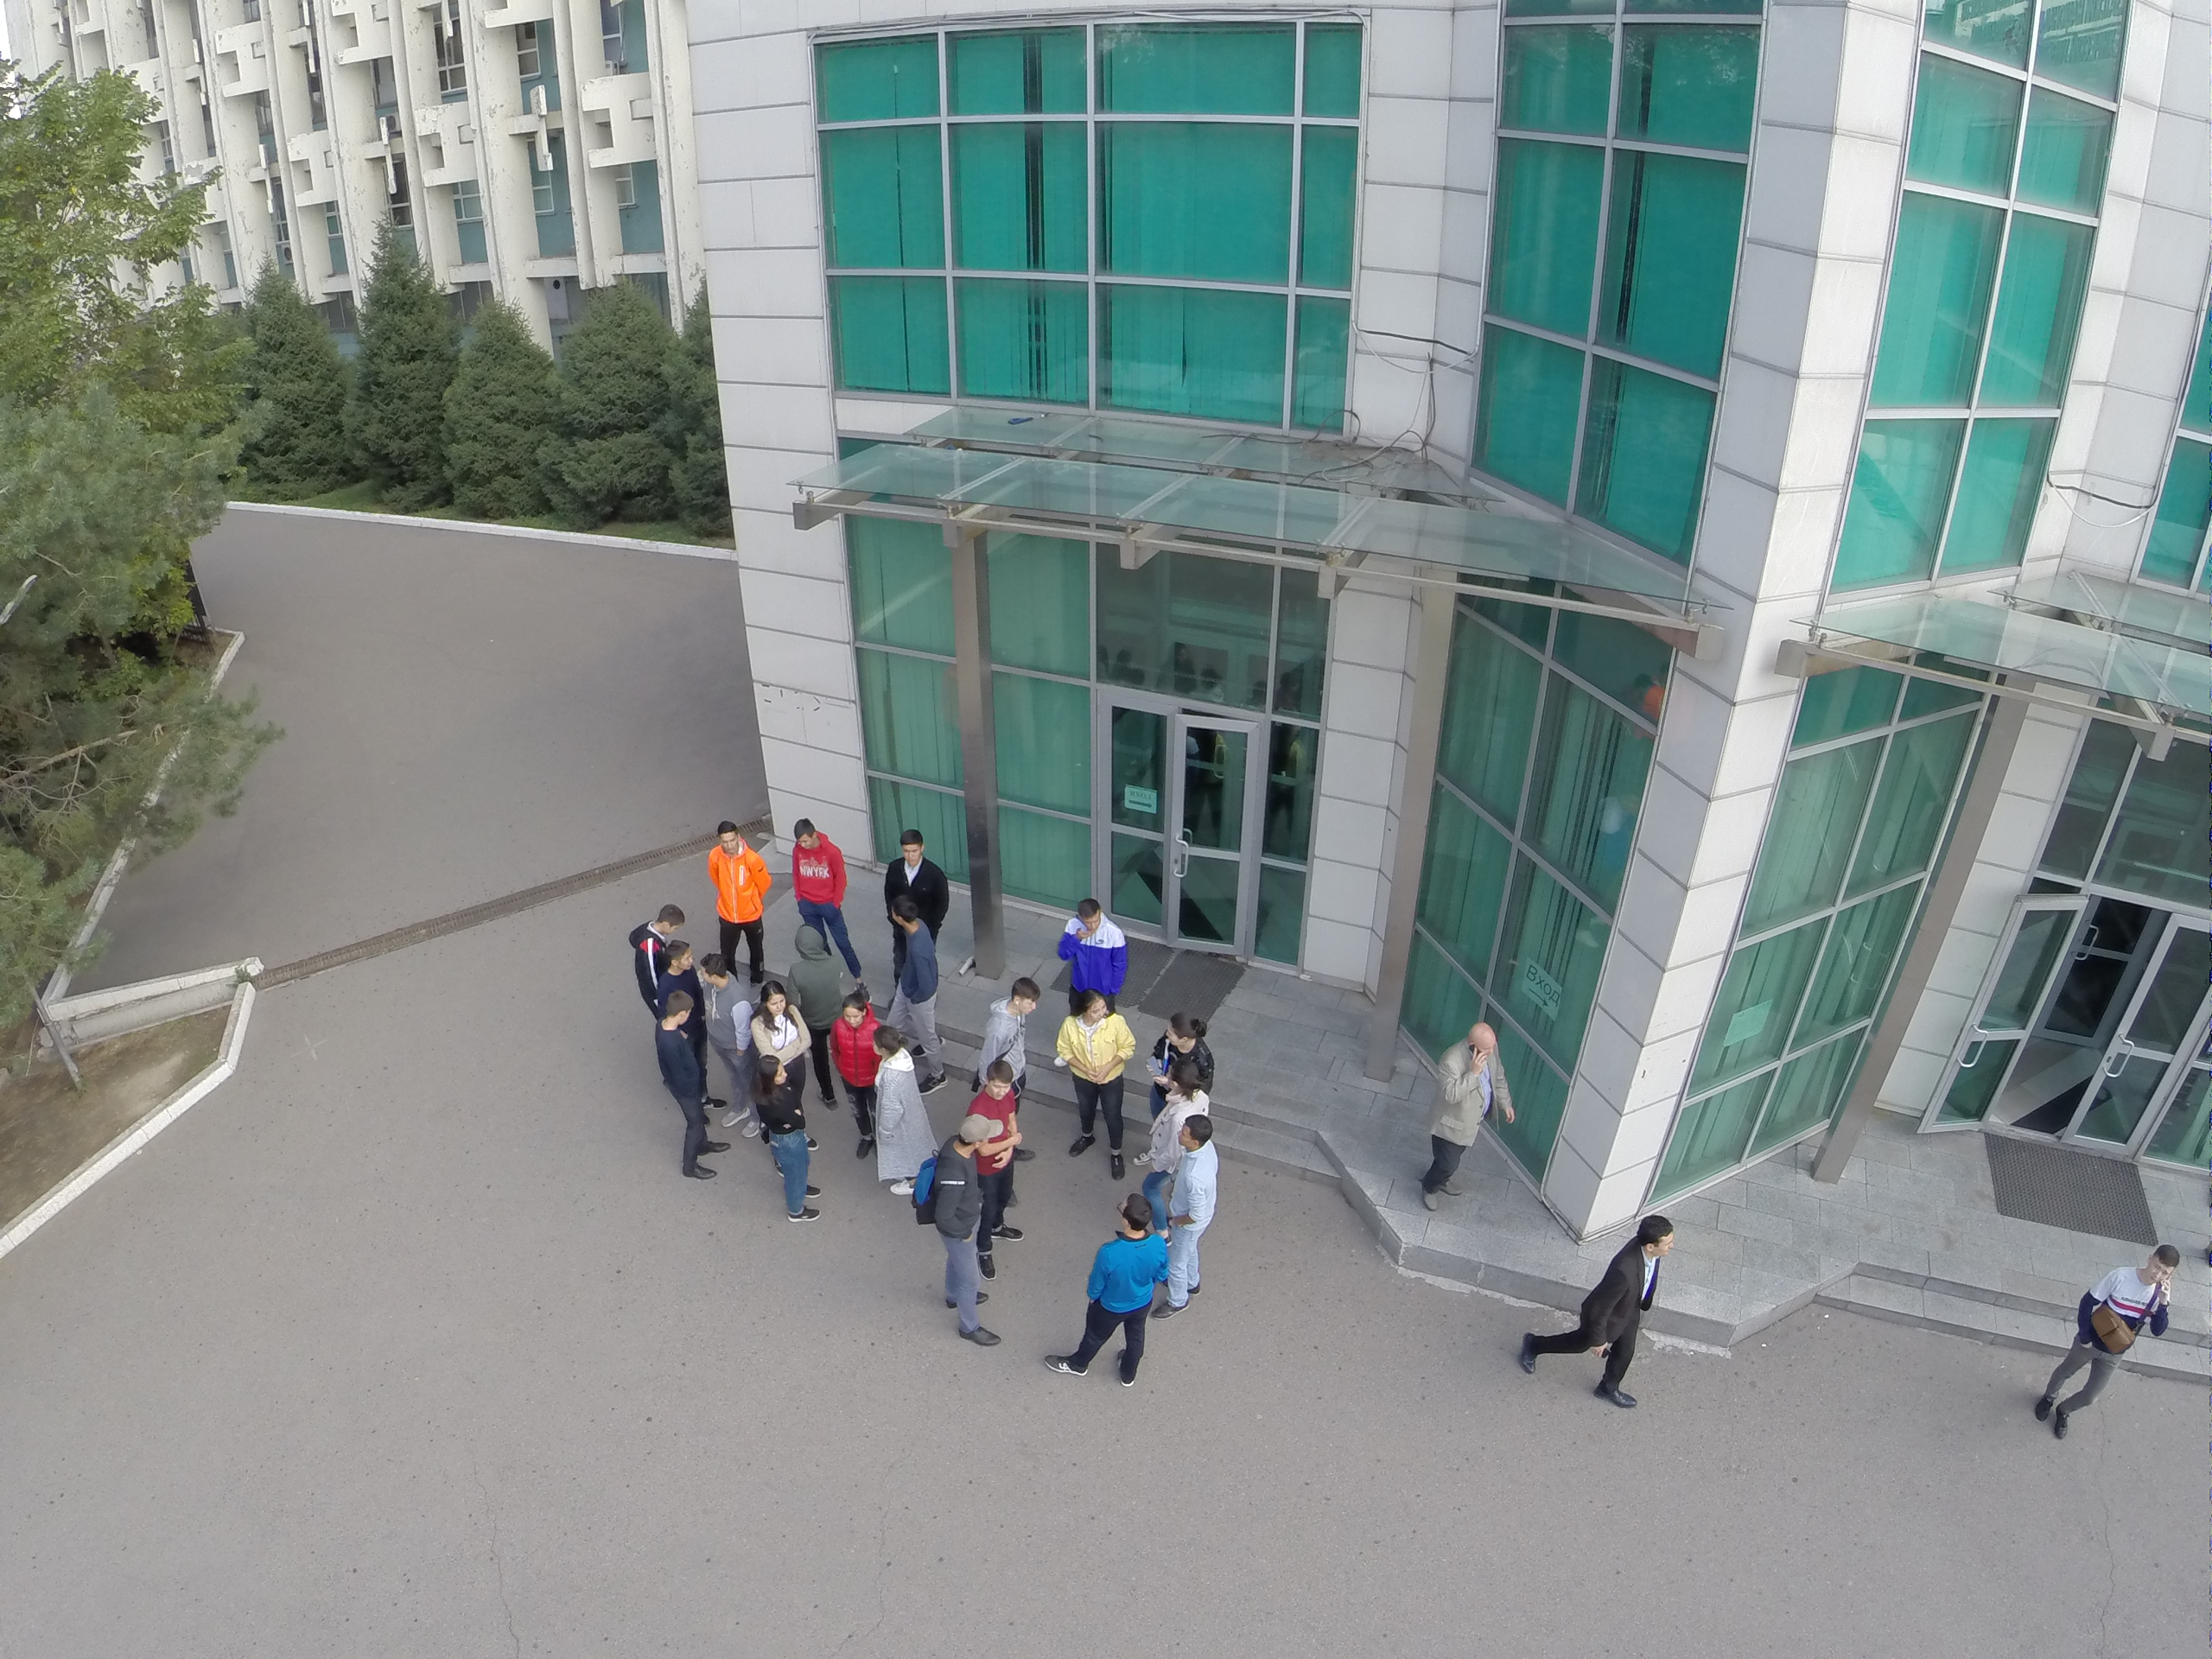person: (1516, 1209, 1681, 1410), (2025, 1236, 2177, 1446), (1046, 1192, 1163, 1391), (906, 1113, 1003, 1351), (1416, 1021, 1518, 1214), (874, 899, 956, 1092), (742, 1066, 836, 1222), (650, 1002, 723, 1185), (1061, 1004, 1138, 1179), (1157, 1116, 1213, 1316), (699, 820, 774, 959), (1052, 895, 1141, 993), (783, 810, 849, 927), (982, 974, 1042, 1074), (888, 826, 945, 914), (1157, 1004, 1205, 1077), (982, 1070, 1024, 1140)
